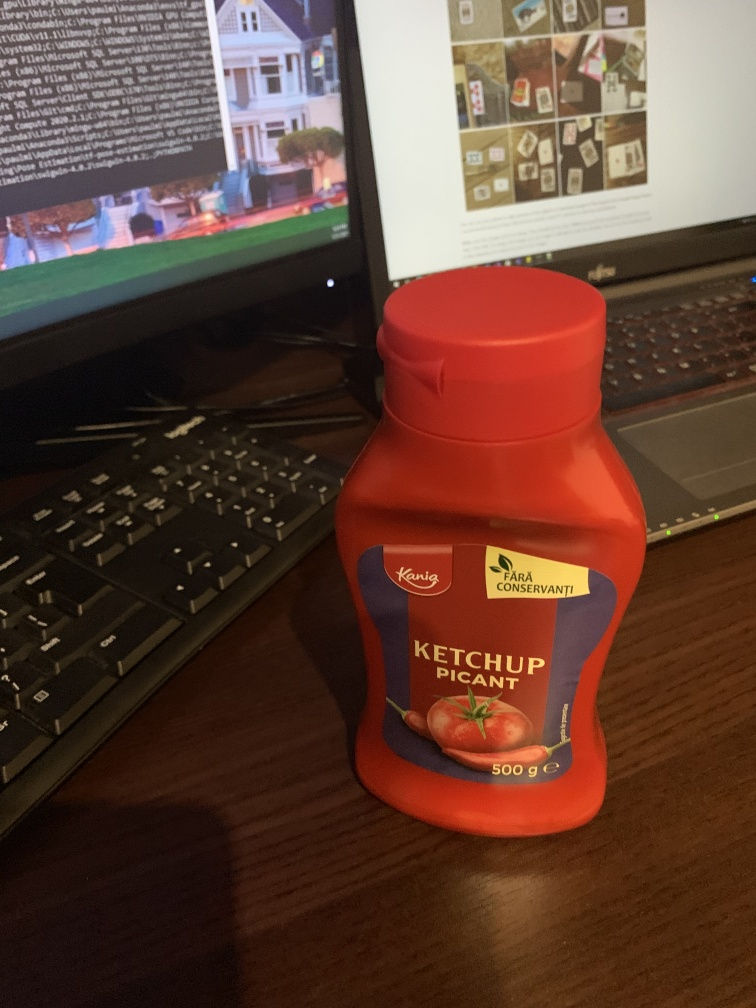ketchup: (342, 265, 650, 843)
